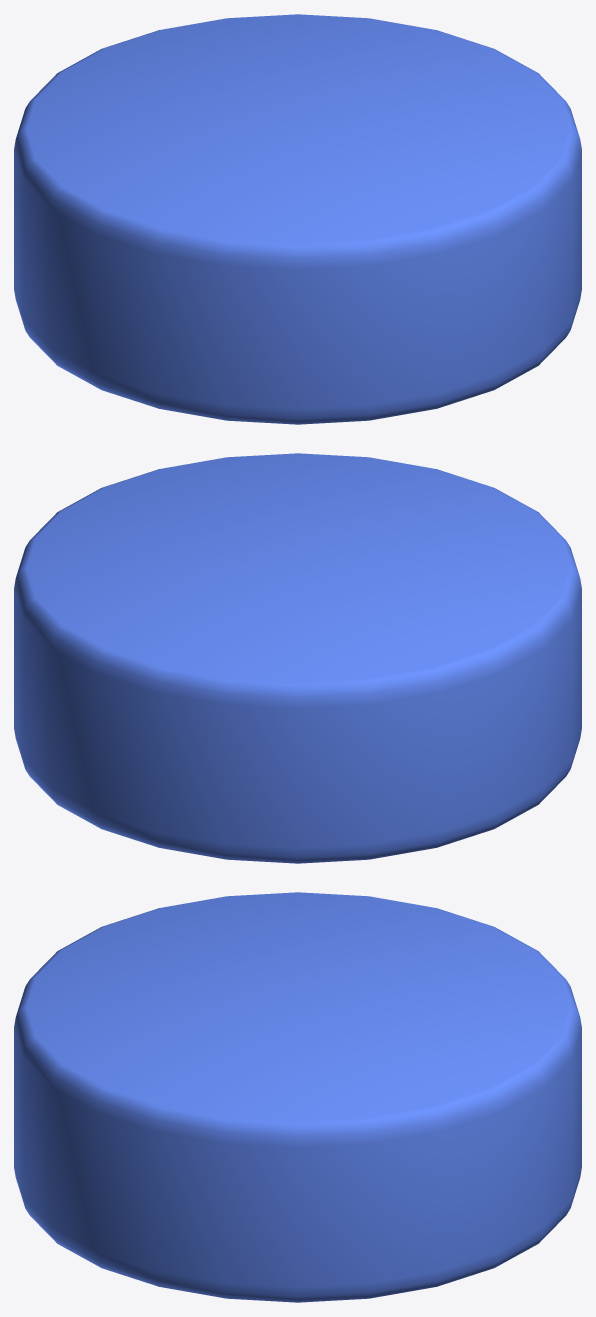
File: guziklodowkagora.fbx
3 renders of one model, top to bottom at view 1: azimuth 30°, elevation 25°; view 2: azimuth 150°, elevation 25°; view 3: azimuth 270°, elevation 25°, orthographic.
Parts seen in each view (by area): view 1: Cylinder.011; view 2: Cylinder.011; view 3: Cylinder.011.
Part boxes in pixels (box(x1,y1,x2,y2)): Cylinder.011: box(14, 14, 581, 424); Cylinder.011: box(14, 453, 581, 863); Cylinder.011: box(14, 892, 581, 1302).
Size of the model in its own units: 64.67 by 22.74 by 64.67.
